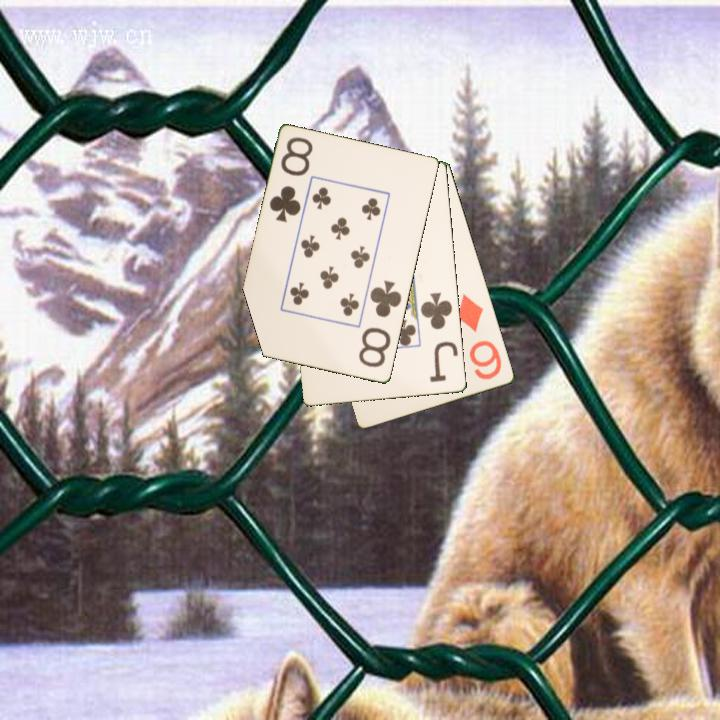6d: (452, 290, 505, 383)
8c: (355, 277, 405, 371), (266, 134, 316, 226)
Jc: (417, 289, 461, 385)
